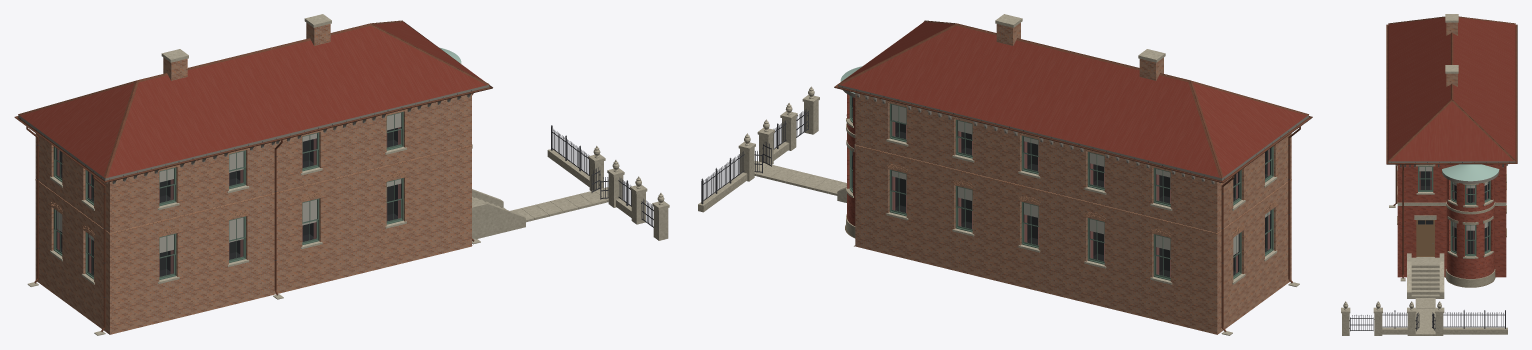
Rendered from house_1600_prairie__as_mapped_1904.glb.
The picture shows the model from 3 angles, left to right: view 1: azimuth 30°, elevation 25°; view 2: azimuth 150°, elevation 25°; view 3: azimuth 270°, elevation 25°; orthographic projection. The views are drawn at different scales.
Visible parts, largest first — view 1: house_1600_prairie__as_mapped_1904; view 2: house_1600_prairie__as_mapped_1904; view 3: house_1600_prairie__as_mapped_1904.
Boxes of the visible parts, x1=… form: house_1600_prairie__as_mapped_1904: x1=14, y1=14, x2=669, y2=335; house_1600_prairie__as_mapped_1904: x1=698, y1=14, x2=1312, y2=335; house_1600_prairie__as_mapped_1904: x1=1341, y1=14, x2=1517, y2=335.
Size of the model in its own units: 29.33 by 12.05 by 11.39.
23 materials, 12 textured.
